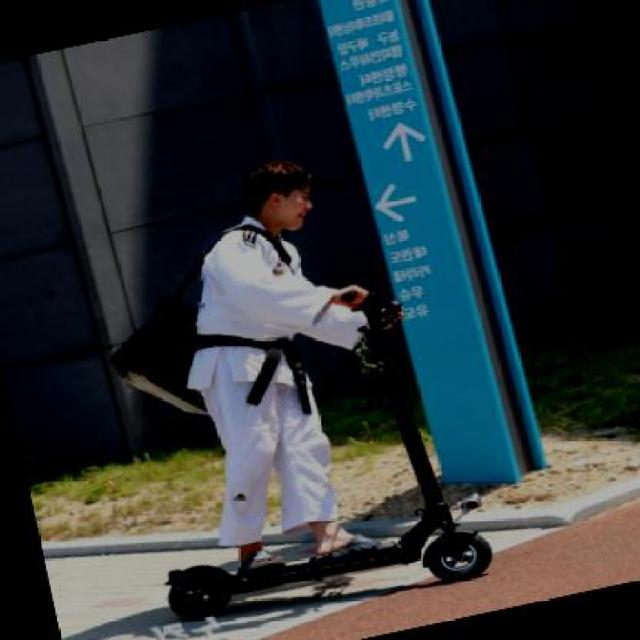bare_head: (237, 151, 322, 231)
human: (197, 140, 382, 564)
kickboard: (143, 538, 511, 609)
